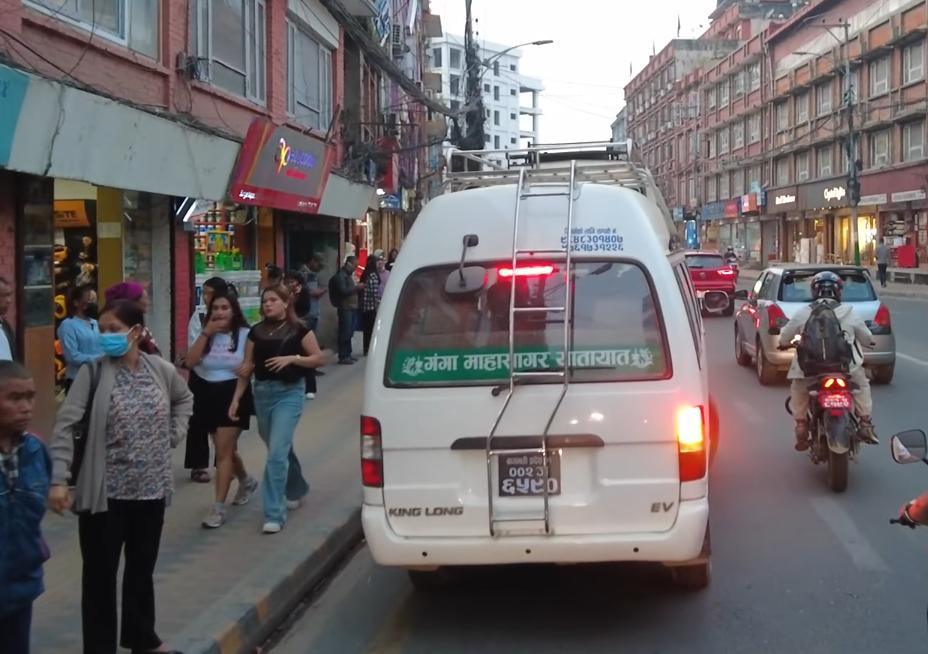bike: (776, 326, 881, 500)
car: (732, 261, 901, 388), (686, 247, 738, 311)
micro_bus: (348, 131, 719, 607)
